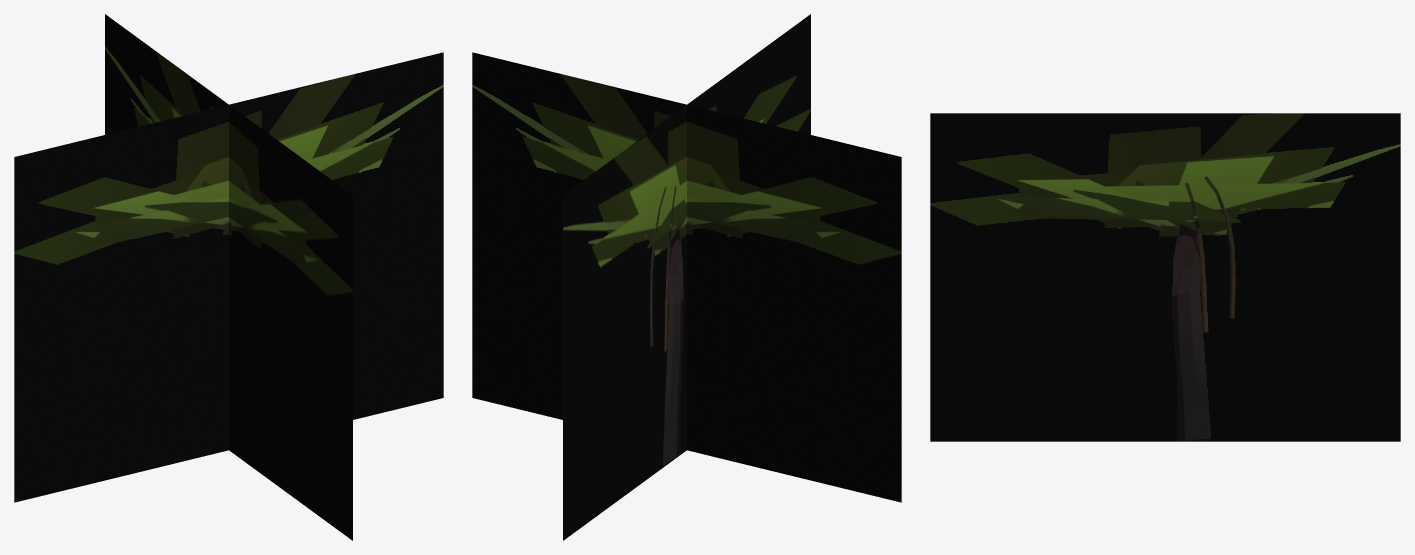
The model's file is jungle_palm_b3_card.glb.
The picture shows the model from 3 angles, left to right: view 1: azimuth 30°, elevation 25°; view 2: azimuth 150°, elevation 25°; view 3: azimuth 270°, elevation 25°; orthographic projection. The views are drawn at different scales.
Visible parts, largest first — view 1: jungle_palm_b3_card; view 2: jungle_palm_b3_card; view 3: jungle_palm_b3_card.
Boxes of the visible parts, bbox=[...] form: jungle_palm_b3_card: bbox=[14, 14, 443, 540]; jungle_palm_b3_card: bbox=[472, 14, 901, 540]; jungle_palm_b3_card: bbox=[930, 113, 1400, 441].
Bounding box in the file's own units: 10.56 × 8.13 × 10.56.
Materials: 1 (1 with a texture image).
